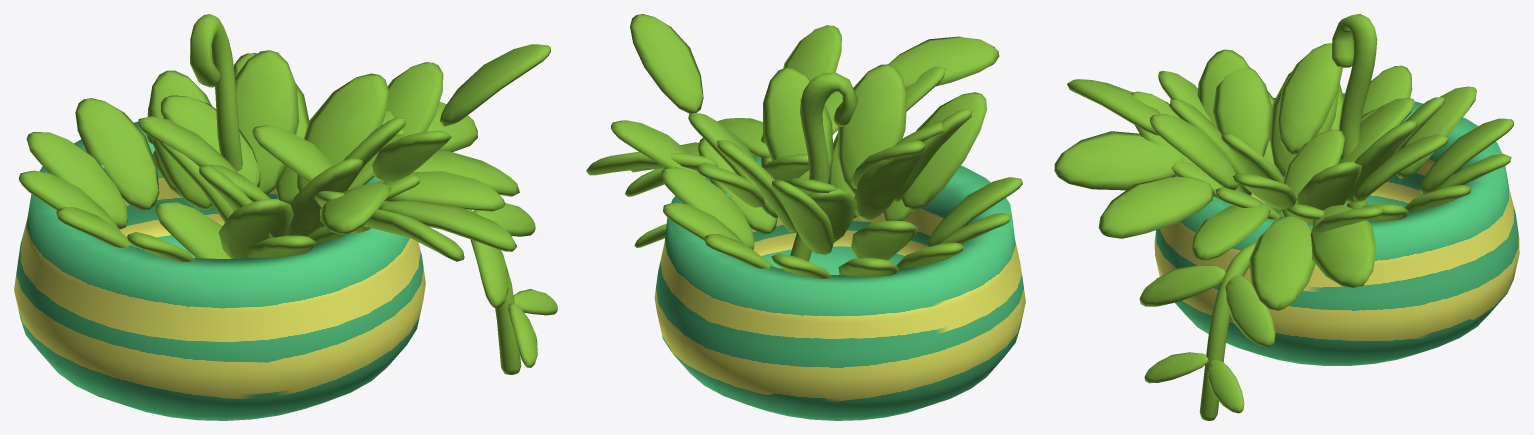
Rendered from Farmhouse_ROOM_flowerpot_v01.glb.
3 renders of one model, left to right at view 1: azimuth 30°, elevation 25°; view 2: azimuth 150°, elevation 25°; view 3: azimuth 270°, elevation 25°, orthographic. The views are drawn at different scales.
Parts seen in each view (by area): view 1: Farmhouse_ROOM_flowerpot_v01; view 2: Farmhouse_ROOM_flowerpot_v01; view 3: Farmhouse_ROOM_flowerpot_v01.
Part boxes in pixels (x1=…): Farmhouse_ROOM_flowerpot_v01: x1=14, y1=14, x2=557, y2=420; Farmhouse_ROOM_flowerpot_v01: x1=586, y1=14, x2=1025, y2=420; Farmhouse_ROOM_flowerpot_v01: x1=1054, y1=14, x2=1519, y2=420.
Bounding box in the file's own units: 0.751 × 0.5548 × 0.7404.
Materials: 2 (1 with a texture image).
